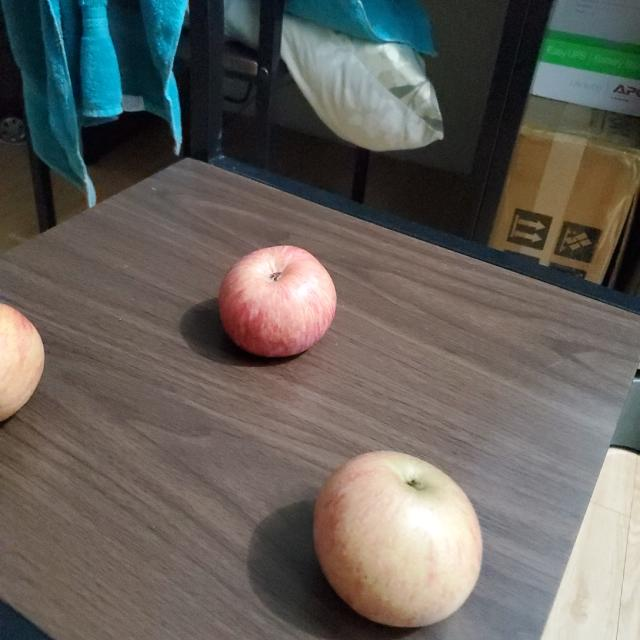apple: (314, 443, 488, 628), (215, 241, 339, 358), (0, 298, 44, 434)
